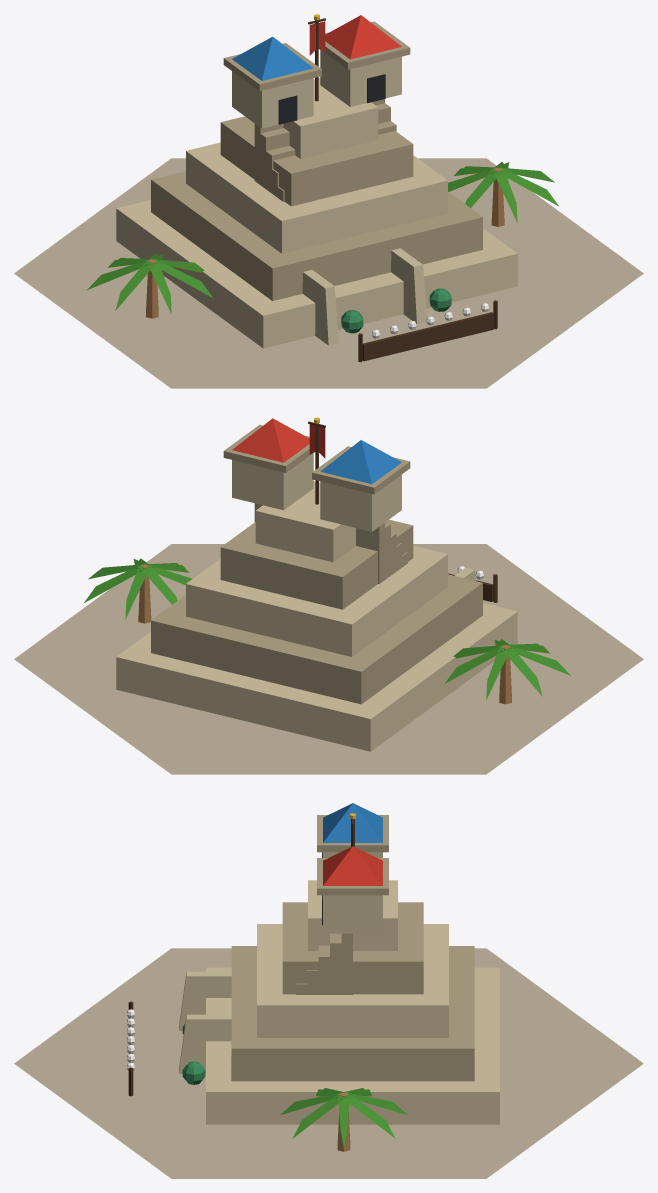
The model's file is wonder_huey_teocalli.fbx.
3 renders of one model, top to bottom at view 1: azimuth 30°, elevation 25°; view 2: azimuth 150°, elevation 25°; view 3: azimuth 270°, elevation 25°, orthographic.
Parts seen in each view (by area): view 1: wonder_huey_teocalli; view 2: wonder_huey_teocalli; view 3: wonder_huey_teocalli.
Part boxes in pixels (x1,y1,x2,y2): wonder_huey_teocalli: [14, 14, 643, 388]; wonder_huey_teocalli: [14, 417, 643, 774]; wonder_huey_teocalli: [14, 803, 643, 1178].
Bounding box in the file's own units: 182 × 91.6 × 210.
